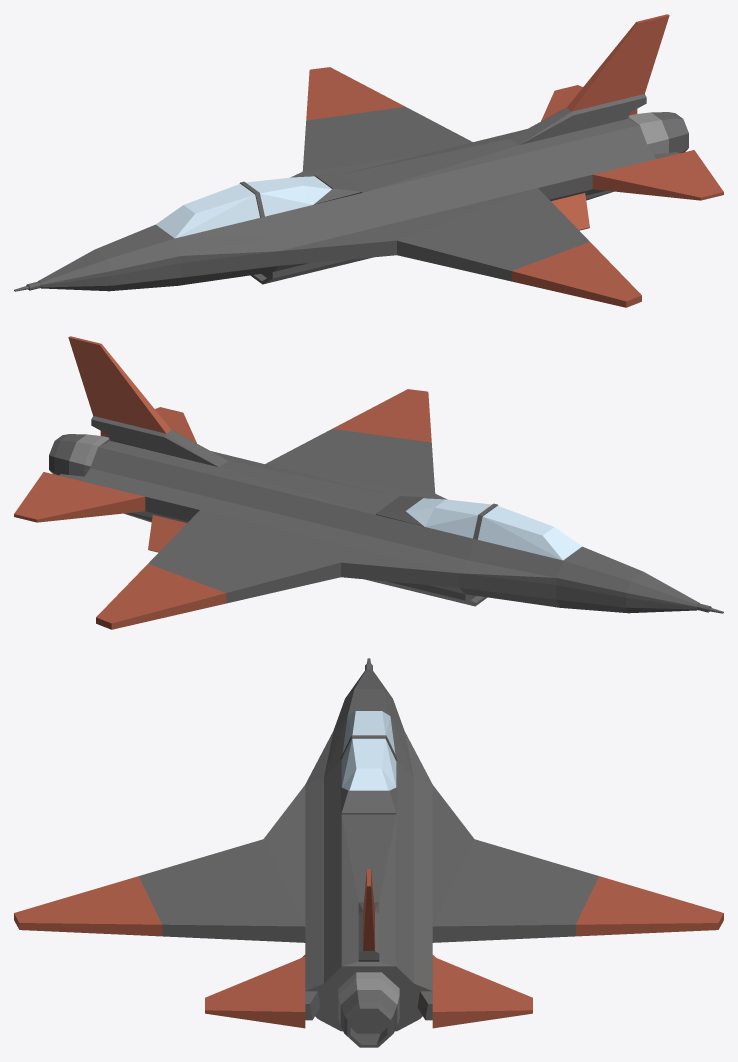
The picture shows the model from 3 angles, top to bottom: view 1: azimuth 30°, elevation 25°; view 2: azimuth 150°, elevation 25°; view 3: azimuth 270°, elevation 25°; orthographic projection. The views are drawn at different scales.
Visible parts, largest first — view 1: seperation_ring; view 2: seperation_ring; view 3: seperation_ring.
Part boxes in pixels (left/top/right/bottom): seperation_ring: left=14, top=14, right=723, bottom=307; seperation_ring: left=14, top=336, right=723, bottom=629; seperation_ring: left=14, top=658, right=723, bottom=1047.
Size of the model in its own units: 31.19 by 7.11 by 25.73.
